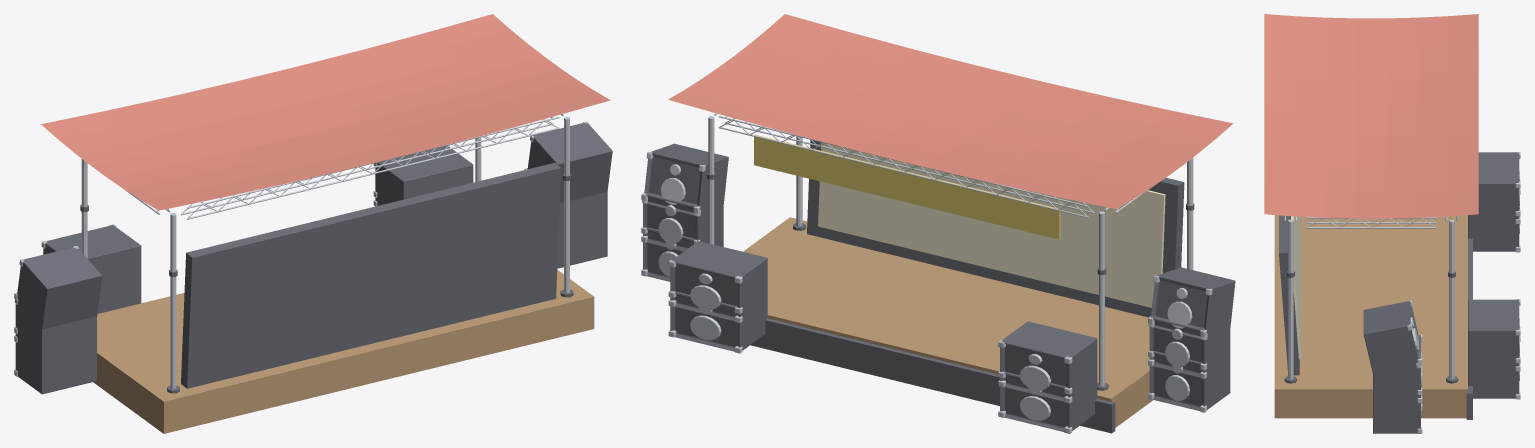
The model's file is MainStage.fbx.
3 views of the same model, side by side, from view 1: azimuth 30°, elevation 25°; view 2: azimuth 150°, elevation 25°; view 3: azimuth 270°, elevation 25° (orthographic). The views are drawn at different scales.
Parts seen in each view (by area): view 1: RoofTruss, Backwall, Deck, PAWingR, PAWingL, SubStackR, SubStackL; view 2: RoofTruss, Deck, Backwall, PAWingR, BannerCloth, SubStackL, SubStackR, PAWingL; view 3: RoofTruss, Deck, PAWingL, SubStackL, SubStackR, Backwall.
Part boxes in pixels (box(x1,y1,x2,y2)): RoofTruss: box(41, 14, 610, 393); Backwall: box(181, 163, 561, 388); Deck: box(93, 270, 594, 433); PAWingR: box(14, 246, 102, 394); PAWingL: box(524, 121, 612, 268); SubStackR: box(41, 224, 141, 313); SubStackL: box(373, 145, 473, 206); RoofTruss: box(668, 14, 1233, 390); Deck: box(743, 217, 1152, 433); Backwall: box(807, 140, 1184, 317); PAWingR: box(1148, 267, 1235, 412); BannerCloth: box(754, 134, 1060, 239); SubStackL: box(668, 241, 767, 353); SubStackR: box(998, 321, 1097, 433); PAWingL: box(641, 143, 728, 281); RoofTruss: box(1264, 14, 1478, 383); Deck: box(1274, 215, 1472, 419); PAWingL: box(1363, 300, 1422, 433); SubStackL: box(1468, 299, 1520, 399); SubStackR: box(1468, 152, 1520, 252); Backwall: box(1279, 215, 1301, 375).
Size of the model in its own units: 18.46 by 7.15 by 7.96.
